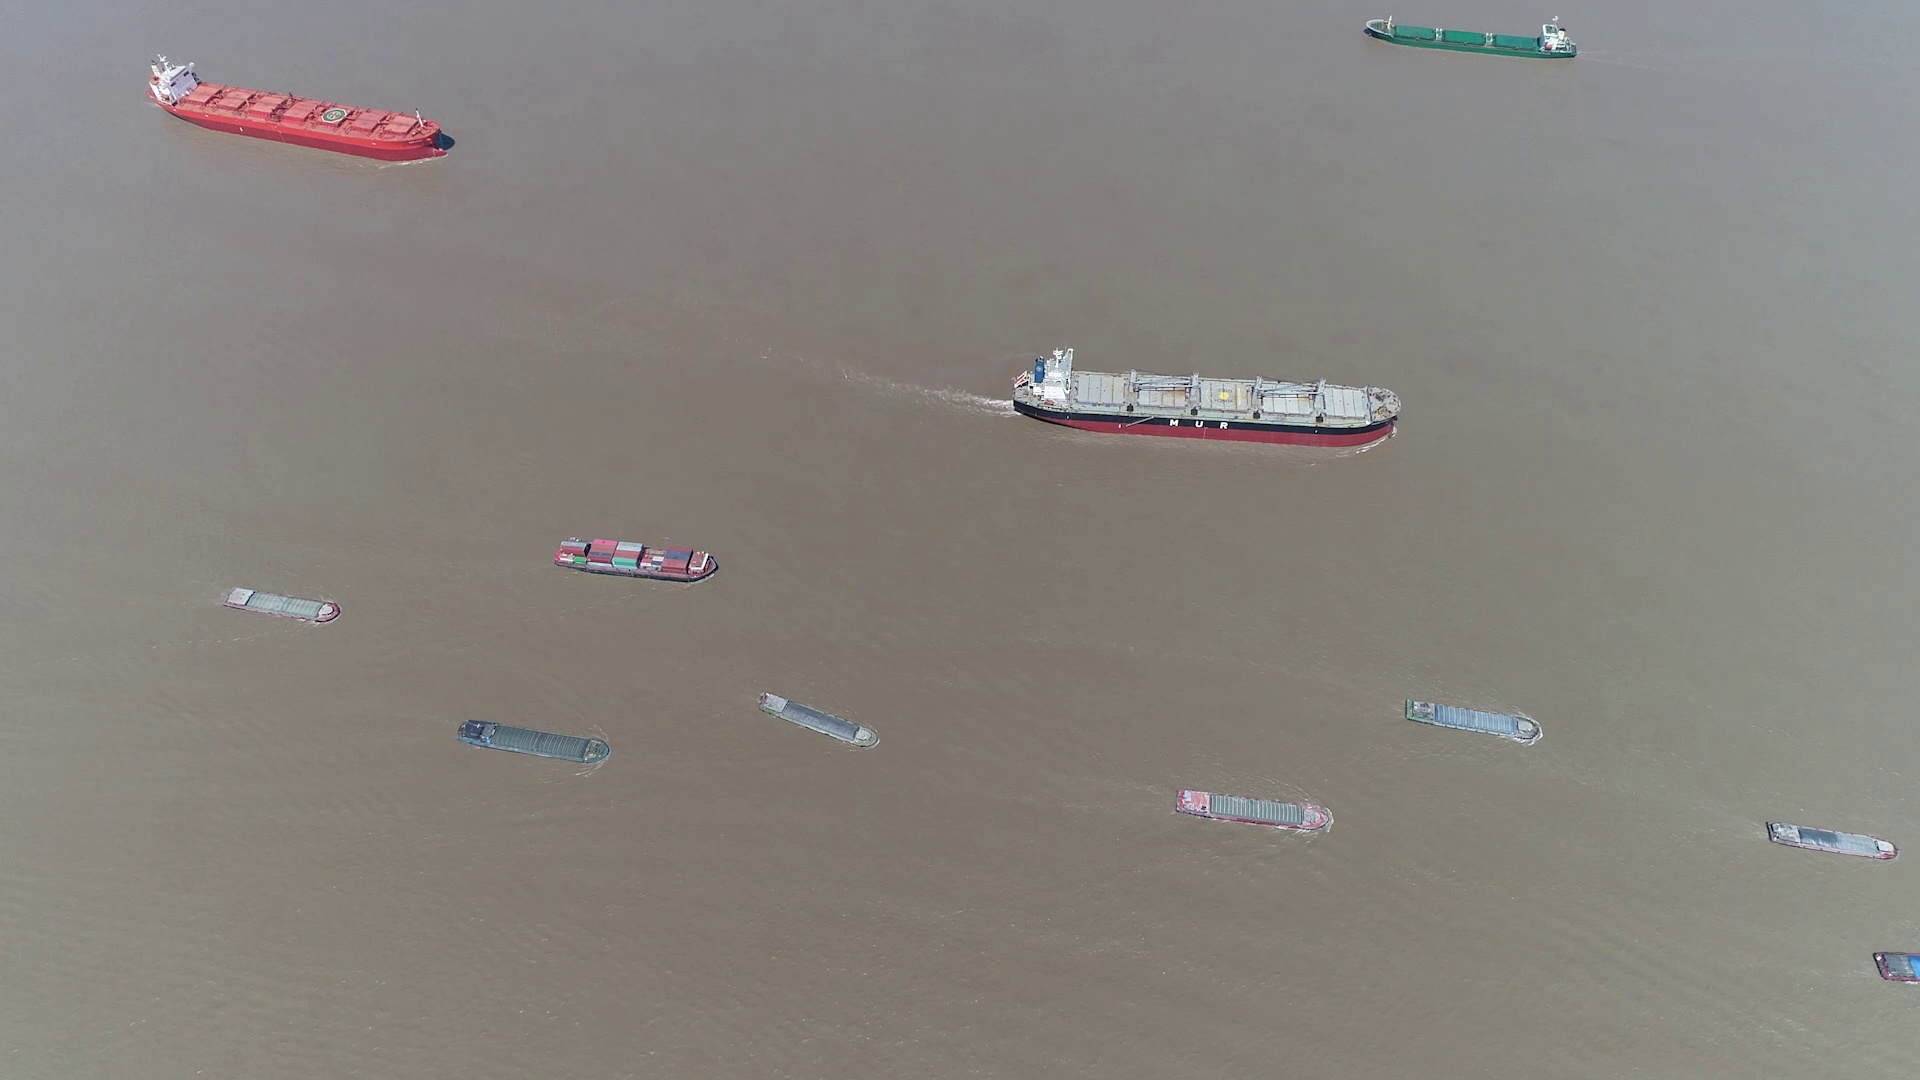ship: (1009, 351, 1400, 447), (152, 51, 448, 160), (1364, 18, 1575, 61), (556, 537, 717, 582), (1174, 790, 1333, 833), (462, 717, 611, 764), (761, 694, 880, 749), (1404, 699, 1542, 741), (1766, 822, 1898, 862), (223, 584, 340, 624), (1873, 951, 1919, 984)
